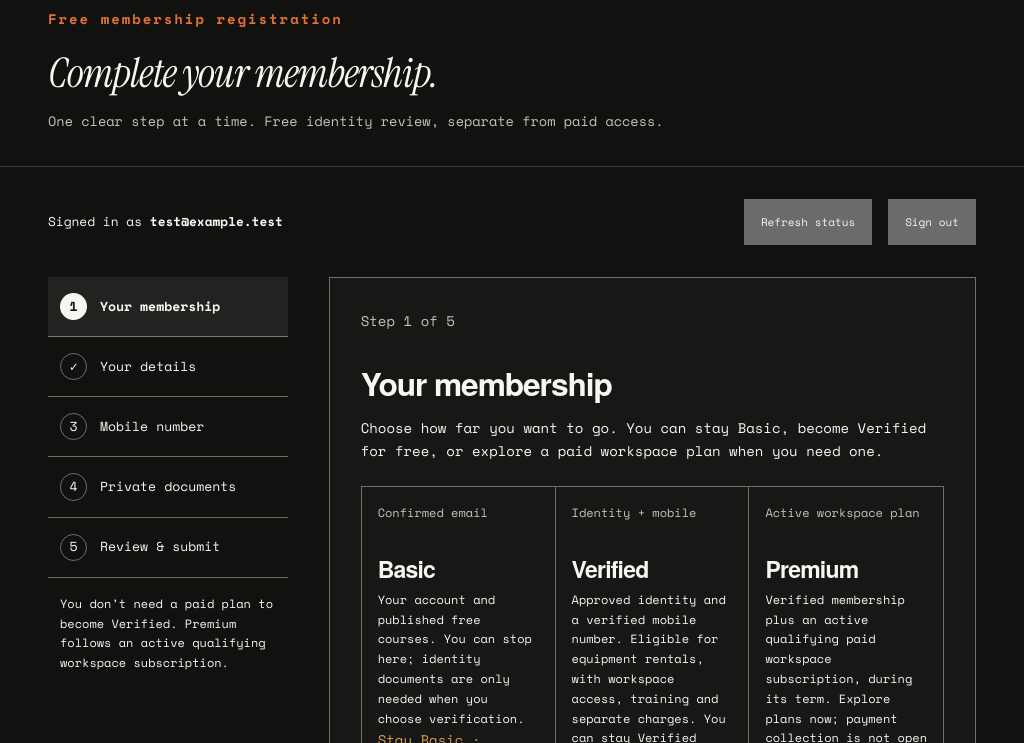
Test case: records ID retention consent before uploading to the security scanner
Click the button "4 Private documents". click: (168, 488)
box: x1=48 y1=457 x2=288 y2=518
(page scrolled)
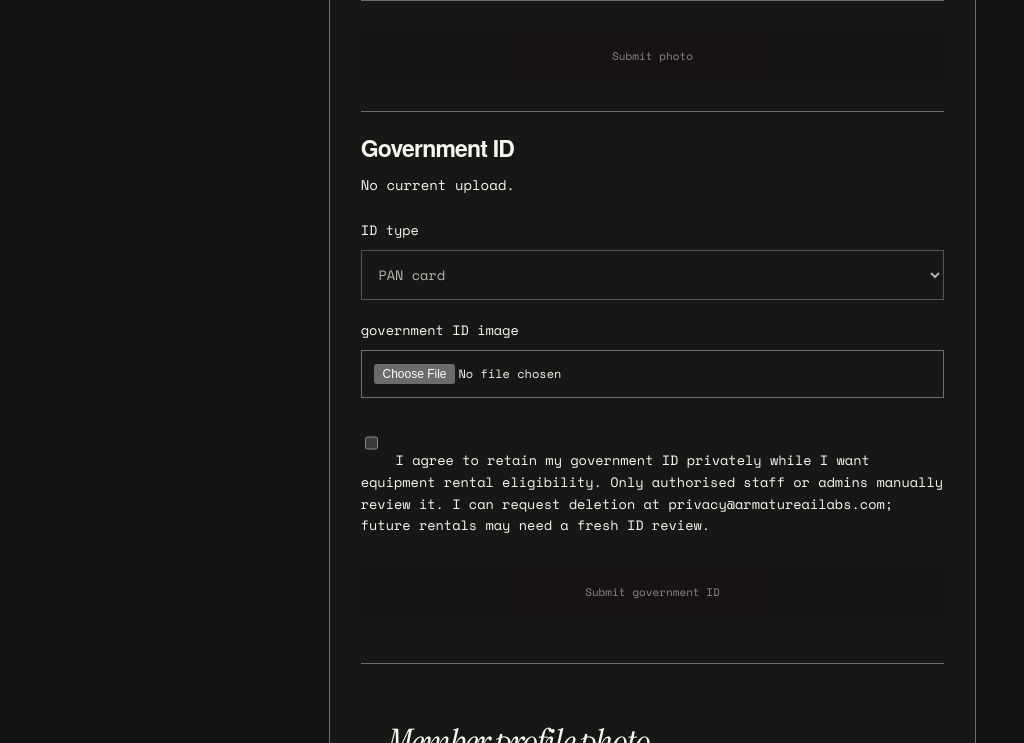
Submit the form labelled "government ID image", box x1=361 y1=220 x2=944 y2=615
(page scrolled)
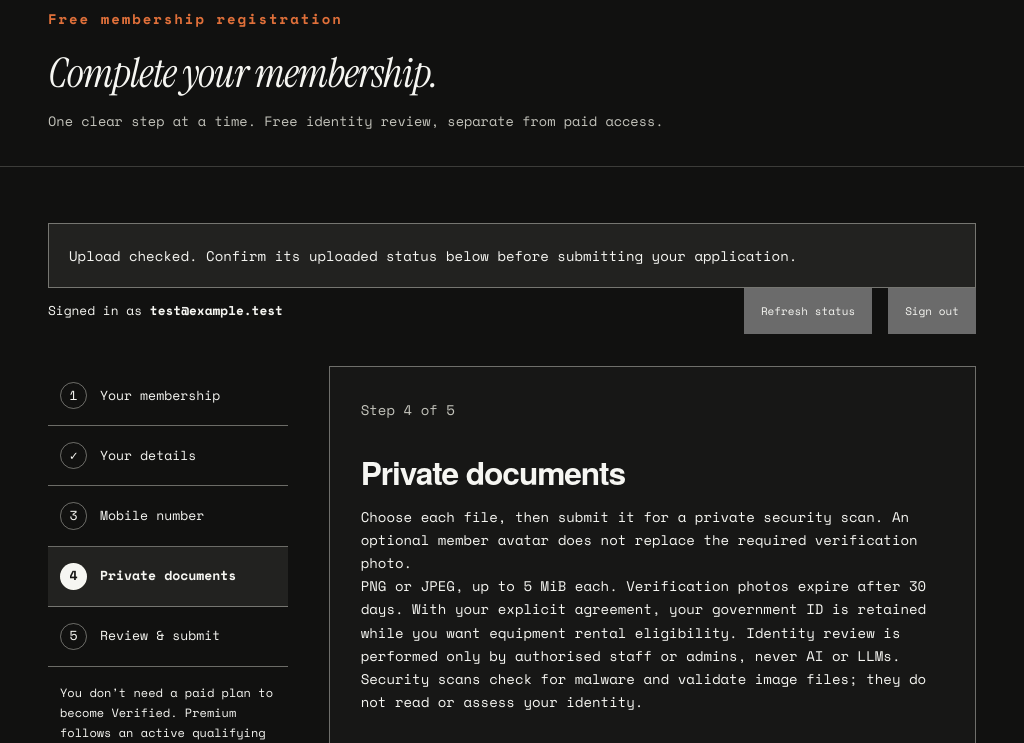
expect the text "Upload checked. Confirm its uploaded status below before submitting your application." is shown: met, box x1=69 y1=245 x2=797 y2=266
